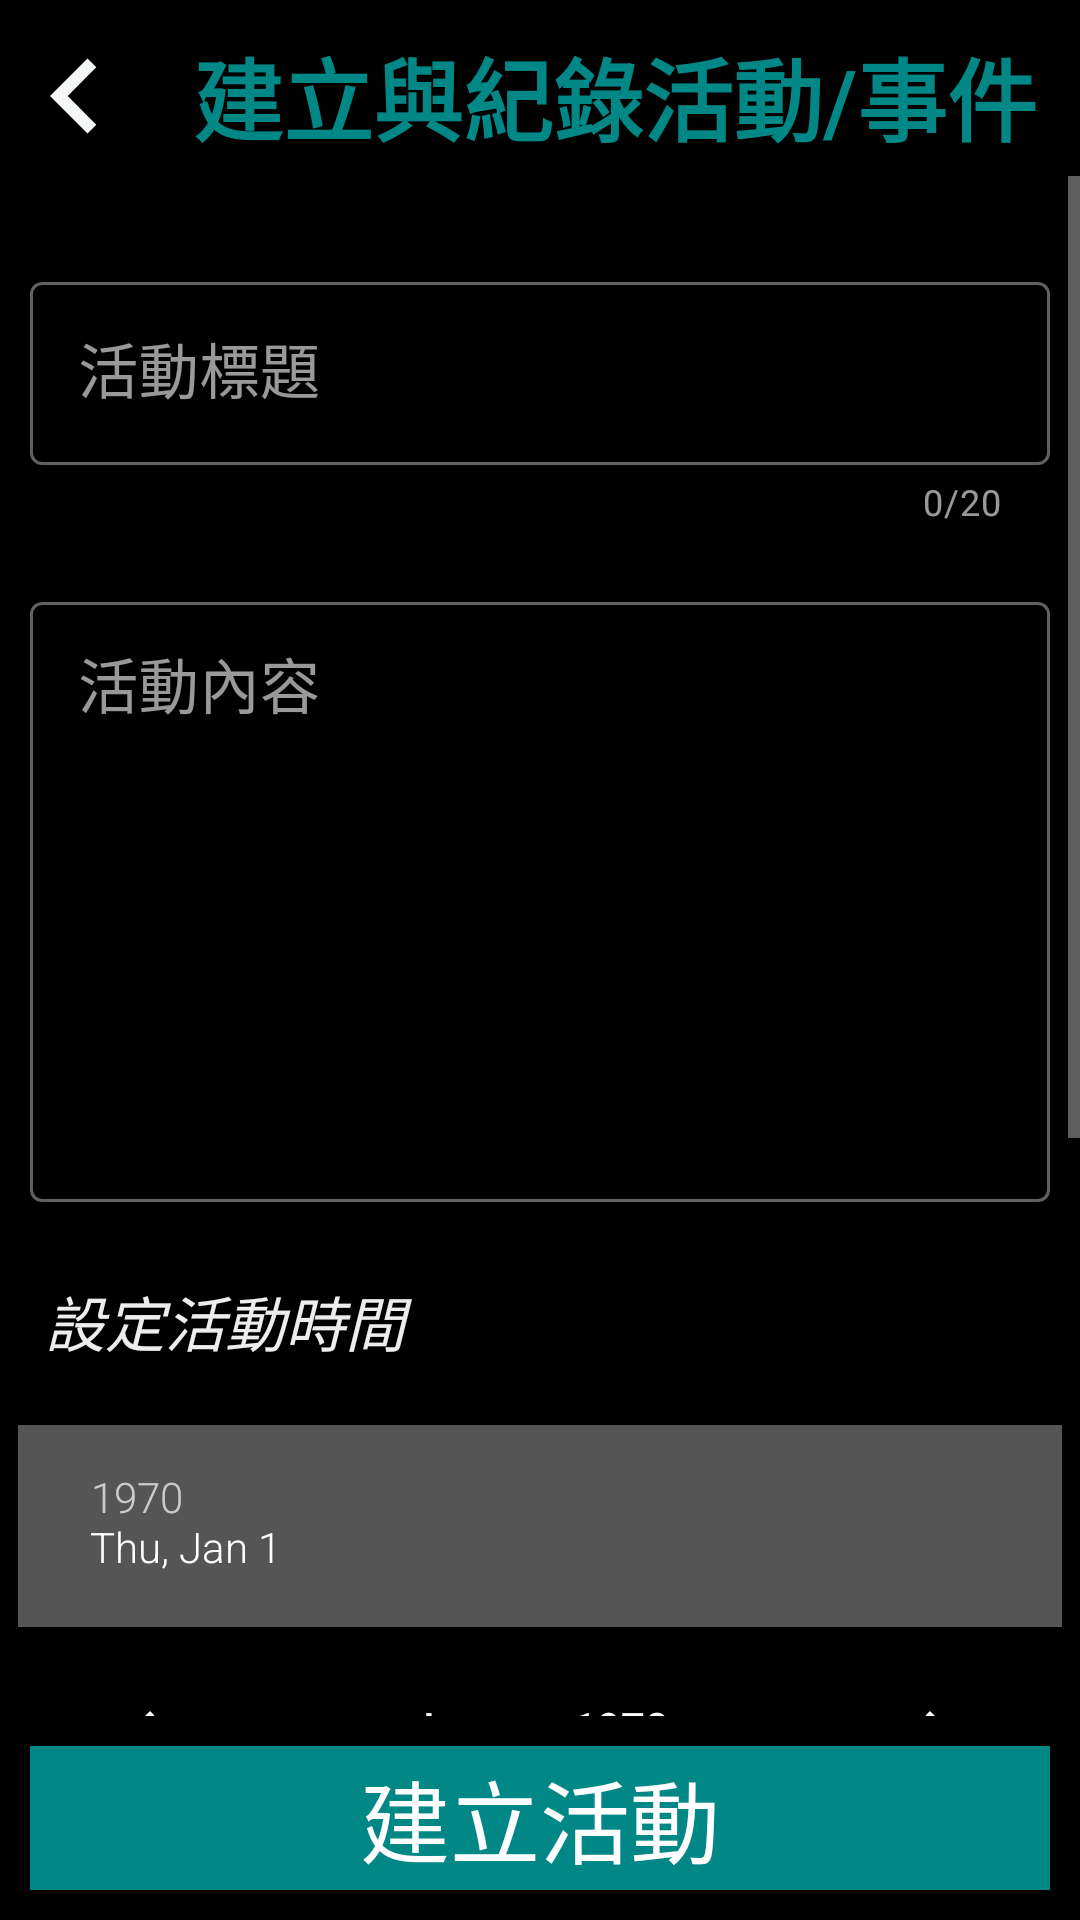

Screen size 1080x1920. Icon name, then its box in pixels as (x1, y1, x2, y2):
keyboard arrow left: (50, 58, 96, 134)
